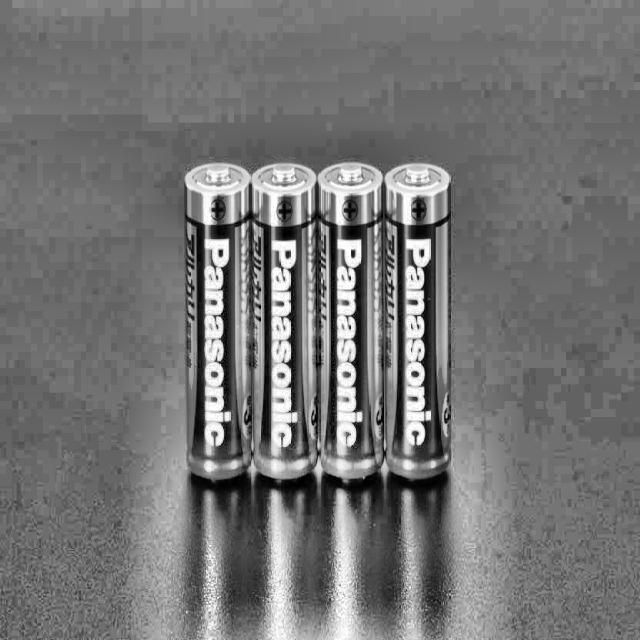drycell: (317, 158, 385, 484), (385, 161, 452, 486), (183, 160, 250, 479), (253, 160, 318, 486)
